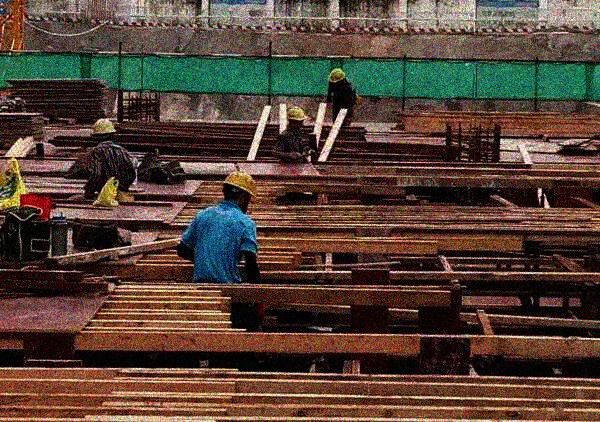helmet: (222, 171, 258, 214), (90, 116, 118, 143), (287, 105, 306, 132), (327, 67, 346, 89)
